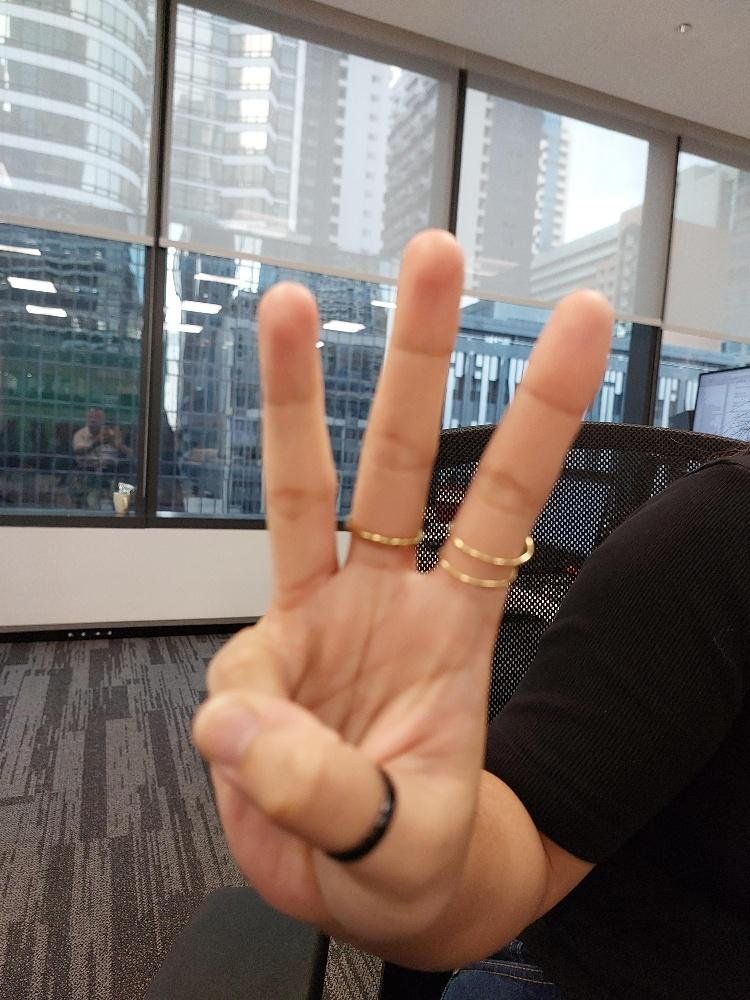w: (185, 224, 619, 933)
